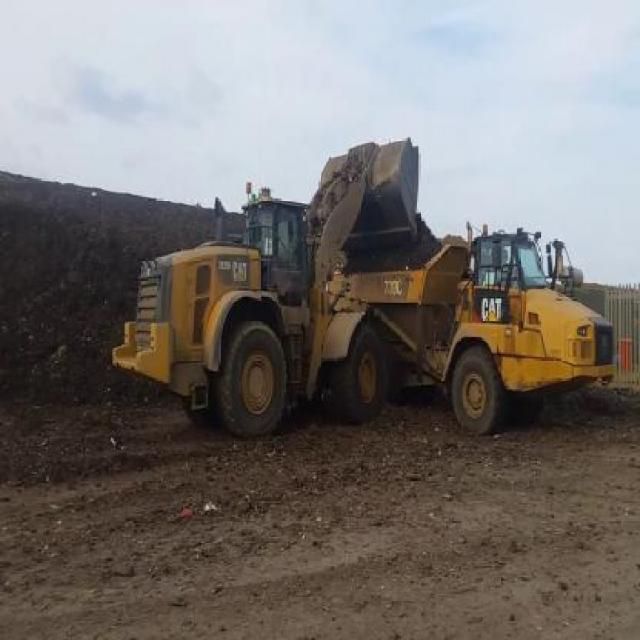Dump Truck: (334, 220, 612, 442)
Loader: (110, 131, 422, 440)
